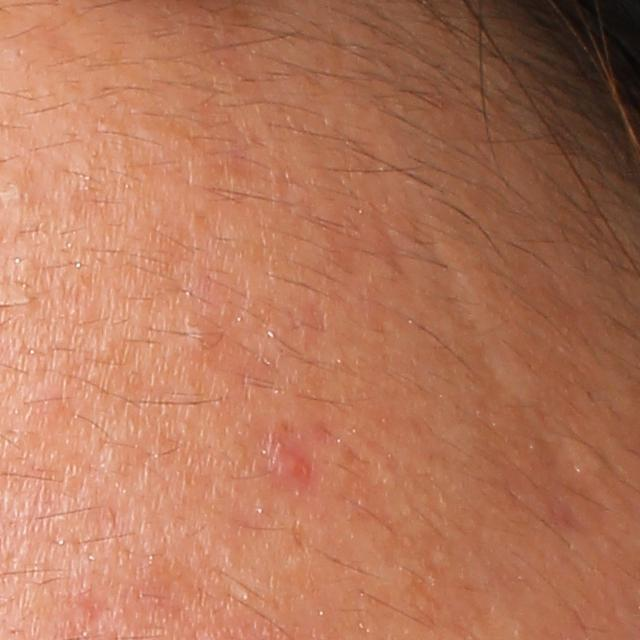papule: (264, 433, 314, 484)
